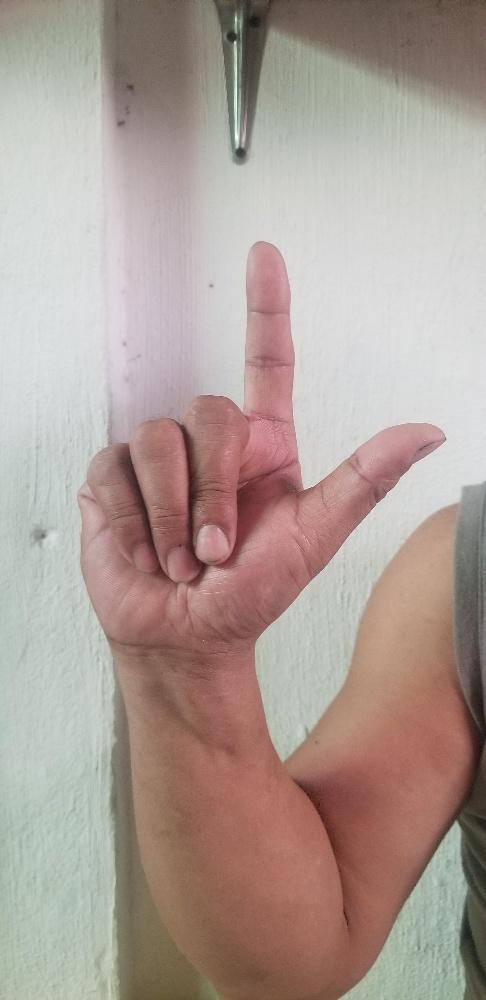l: (77, 238, 447, 639)
